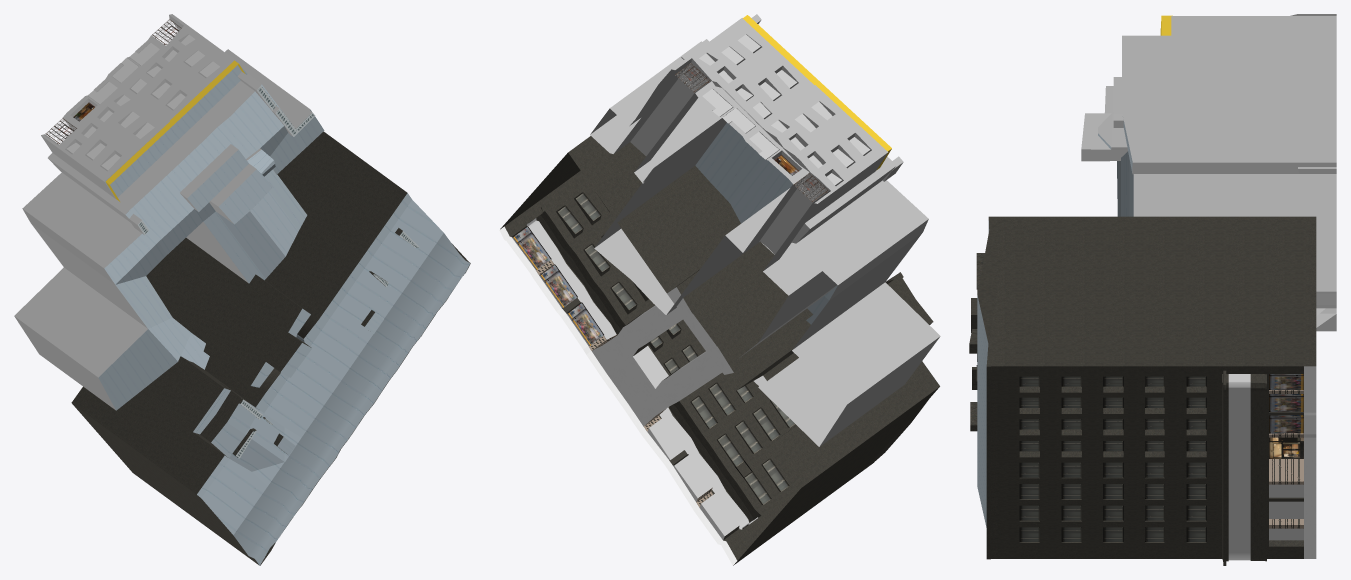
The model's file is Parnu_mnt_6-origo.obj.
3 views of the same model, side by side, from view 1: azimuth 30°, elevation 25°; view 2: azimuth 150°, elevation 25°; view 3: azimuth 270°, elevation 25° (orthographic). The views are drawn at different scales.
Parts seen in each view (by area): view 1: polySurface2; view 2: polySurface2; view 3: polySurface2.
Boxes of the visible parts, x1,y1,x2,y2 form: polySurface2: (14, 14, 470, 565); polySurface2: (499, 14, 940, 565); polySurface2: (969, 14, 1336, 565).
Bounding box in the file's own units: 42.06 × 54.5 × 31.69.
